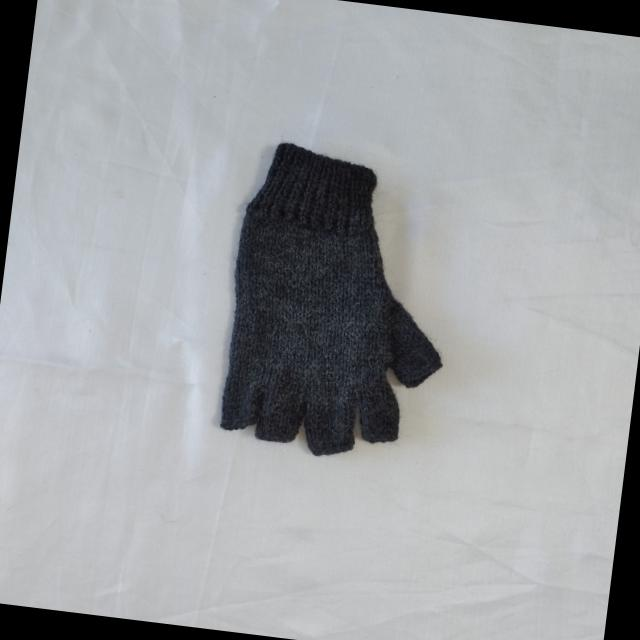Guante: (211, 136, 467, 469)
